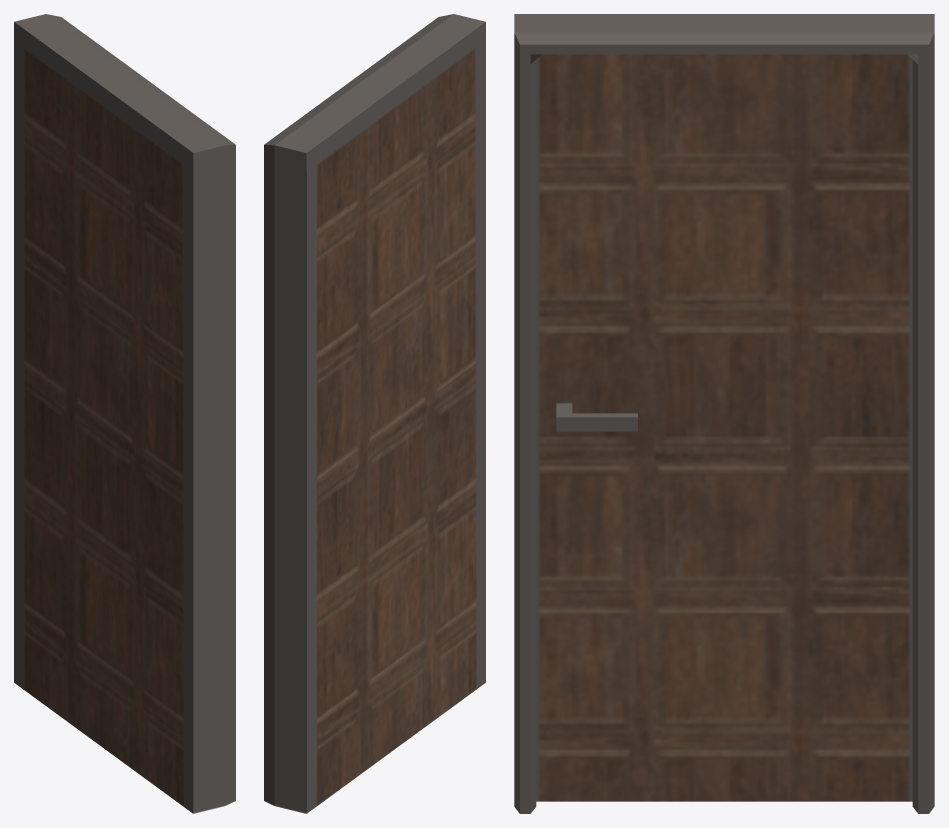
File: Door.fbx
The picture shows the model from 3 angles, left to right: view 1: azimuth 30°, elevation 25°; view 2: azimuth 150°, elevation 25°; view 3: azimuth 270°, elevation 25°; orthographic projection. The views are drawn at different scales.
Visible parts, largest first — view 1: Cube; view 2: Cube; view 3: Cube, Cube.001.
Boxes of the visible parts, bbox=[...] form: Cube: bbox=[14, 14, 235, 813]; Cube: bbox=[264, 14, 485, 813]; Cube: bbox=[514, 14, 934, 813]; Cube.001: bbox=[556, 403, 637, 431].
Bounding box in the file's own units: 151 × 1952 × 961.
